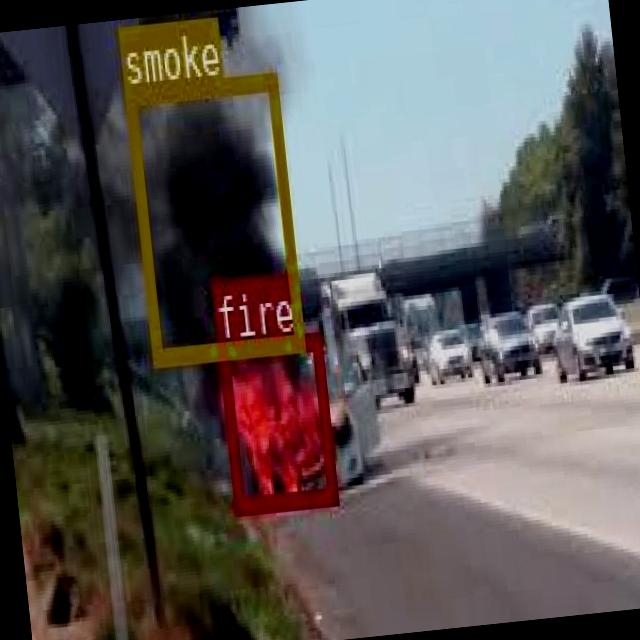fire: (216, 329, 336, 510)
smoke: (124, 70, 302, 360)
